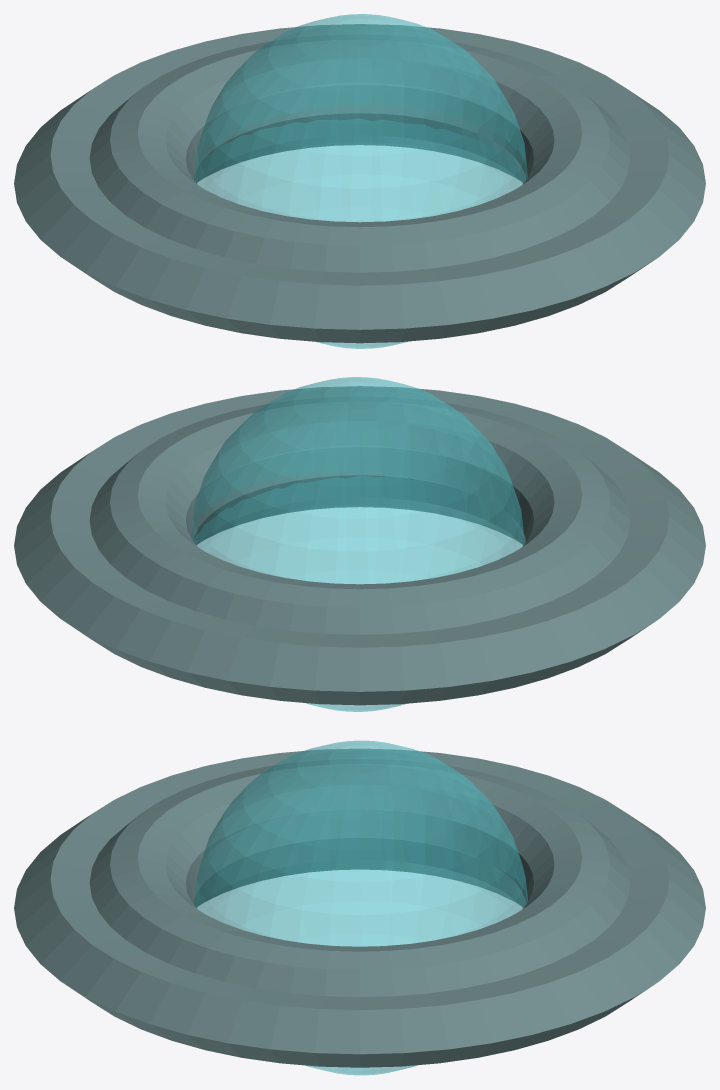
File: ship2.glb
3 views of the same model, one above another, from view 1: azimuth 30°, elevation 25°; view 2: azimuth 150°, elevation 25°; view 3: azimuth 270°, elevation 25° (orthographic).
Parts seen in each view (by area): view 1: Torus; view 2: Torus; view 3: Torus.
Part boxes in pixels (x1=…): Torus: x1=14, y1=14, x2=705, y2=348; Torus: x1=14, y1=377, x2=705, y2=711; Torus: x1=14, y1=740, x2=705, y2=1075.
Bounding box in the file's own units: 3.11 × 1.51 × 3.11.
